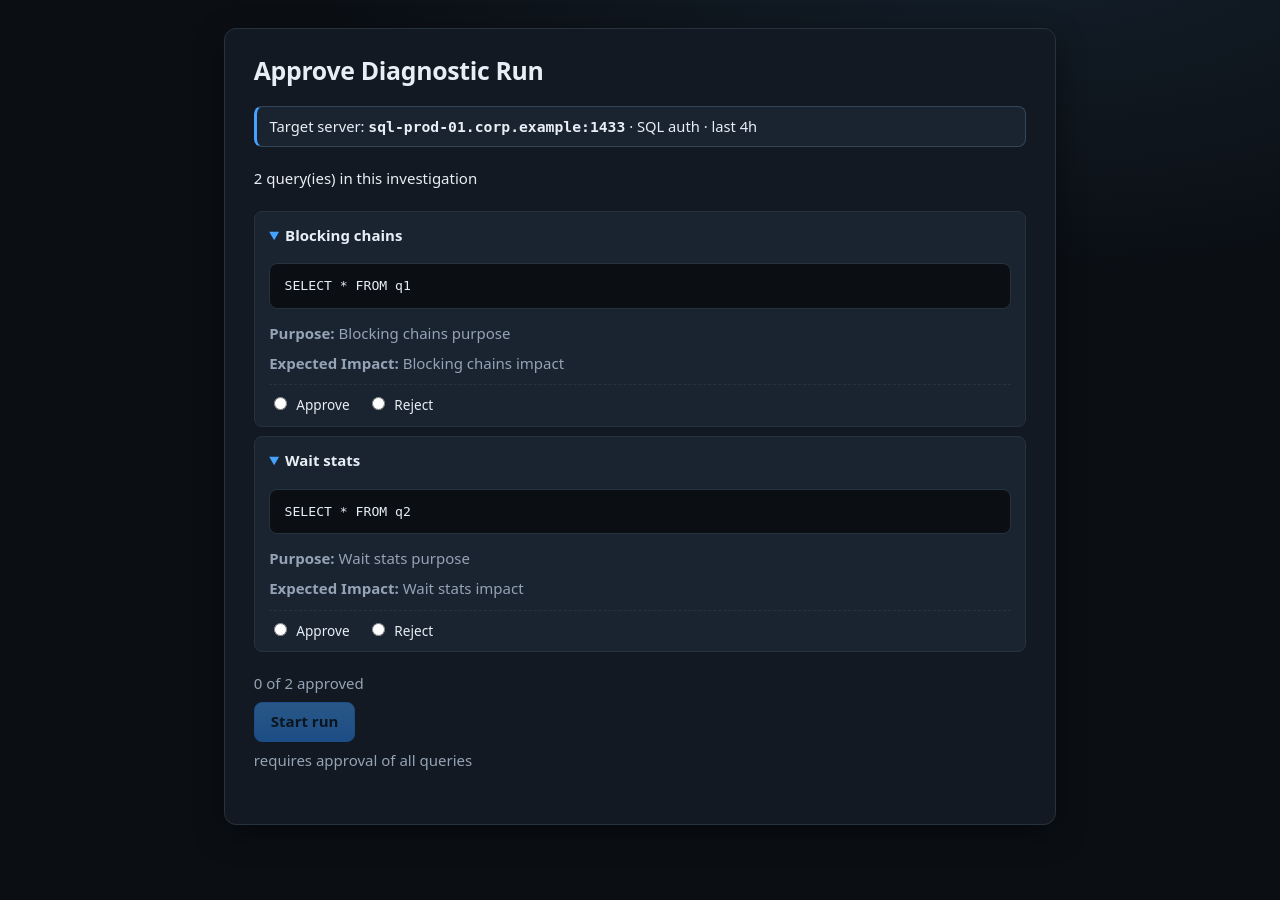
Test: ApprovalScreen › requires a reason of at least 10 characters for a rejection
Expected: the text "Blocking chains purpose" is shown, 339,323 -> 510,343
Click the radio button labelled "Reject" below "Blocking chains impact" at (379, 404), box 372,398 -> 385,410
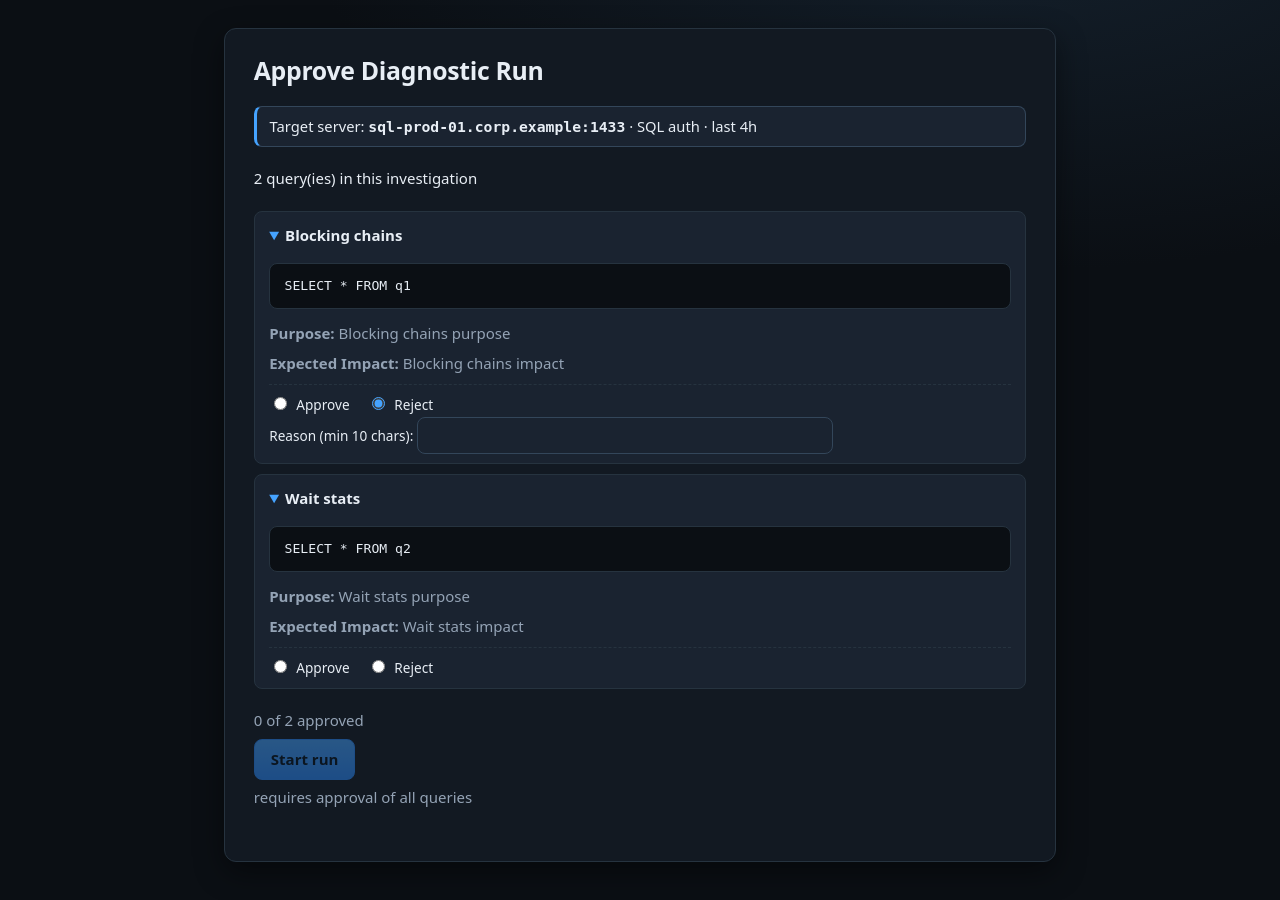
Type "too short" into the field labelled "Reason (min 10 chars):" at (625, 435), box 417,417 -> 833,454
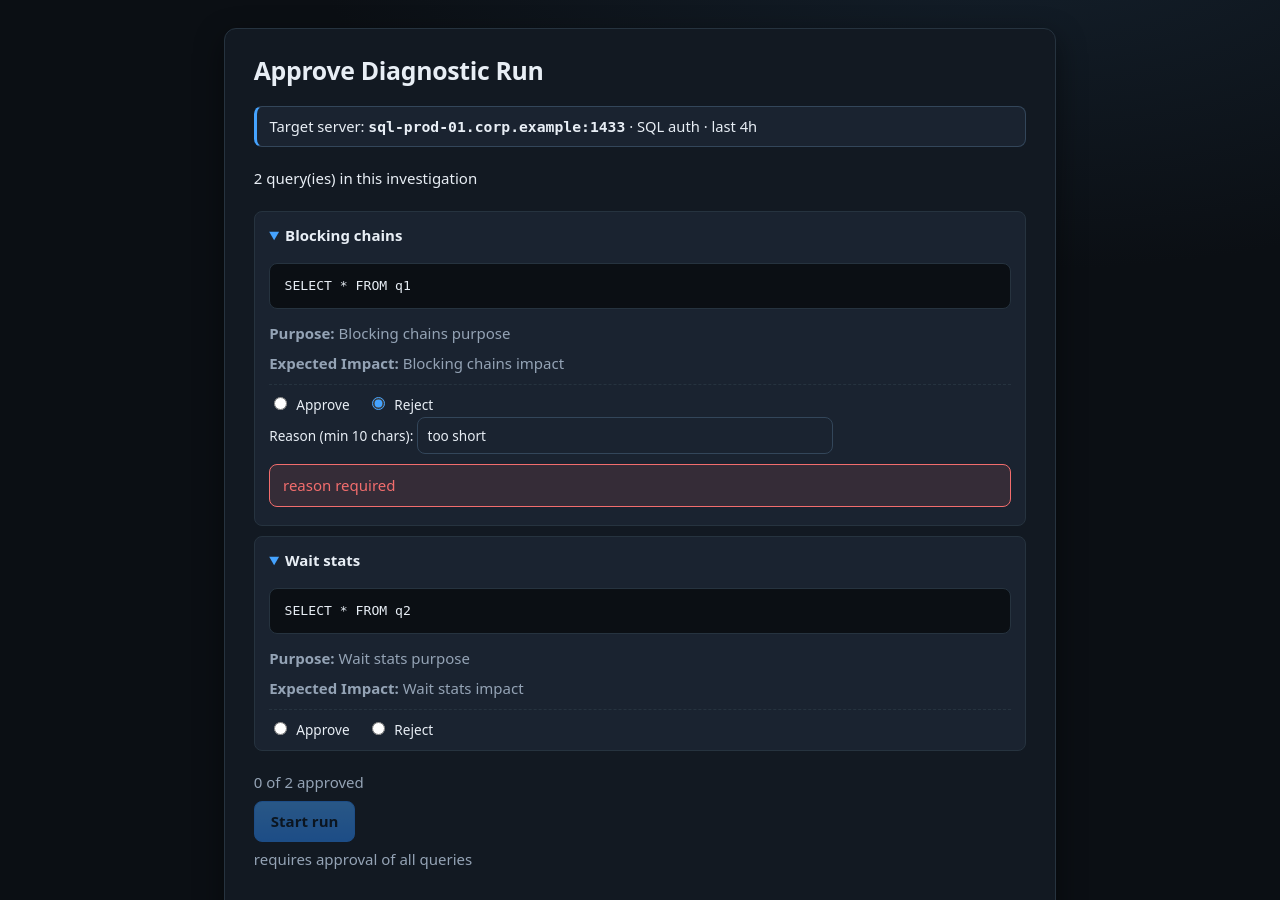
Now the text "reason required" is shown, box 269,464 -> 1011,506
Replace the text in the field labelled "Reason (min 10 chars):" with "blocks on tempdb" at (625, 435), box 417,417 -> 833,454
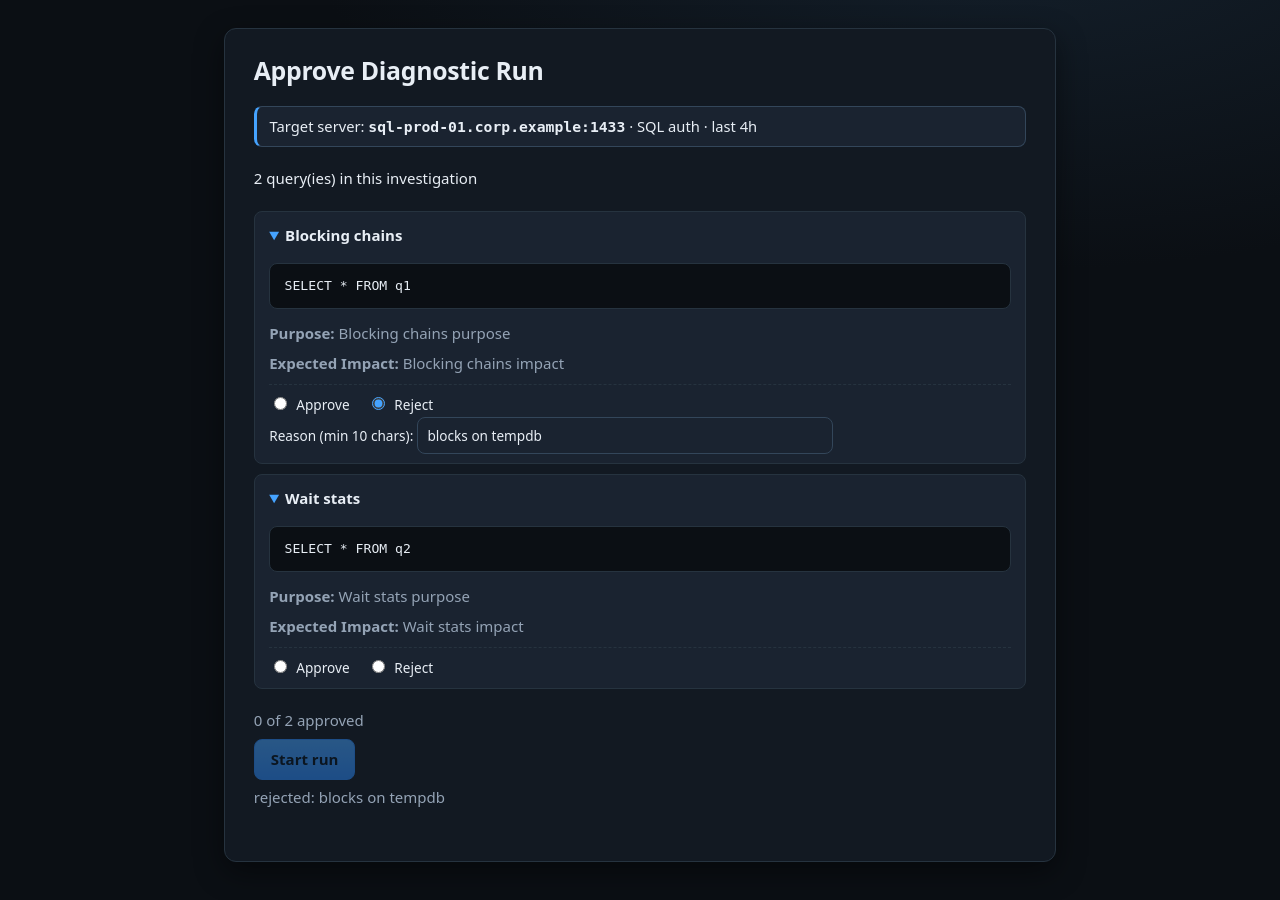
Expected: the button "Start run" is disabled, 254,739 -> 355,780
Now the text "rejected: blocks on tempdb" is shown, box 254,787 -> 445,807
